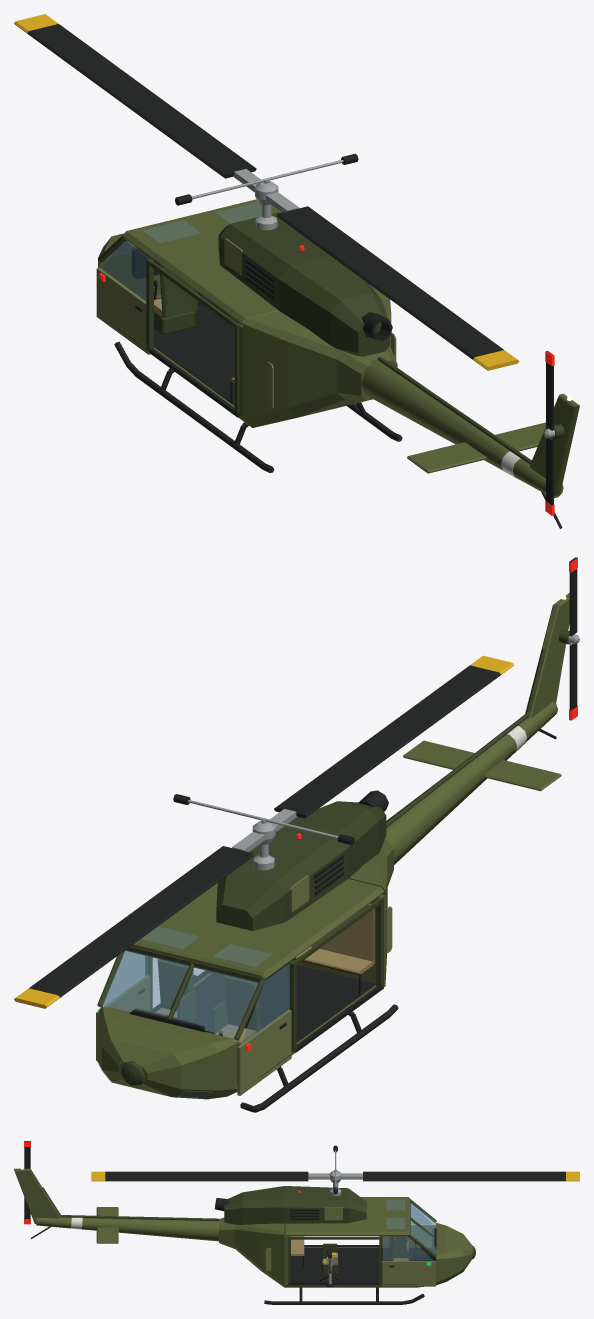
The model's file is utility_helicopter.glb.
3 renders of one model, top to bottom at view 1: azimuth 30°, elevation 25°; view 2: azimuth 150°, elevation 25°; view 3: azimuth 270°, elevation 25°, orthographic. The views are drawn at different scales.
Parts seen in each view (by area): view 1: fuselage, rotor_main, glass_2, rotor_tail; view 2: fuselage, rotor_main, glass_1, glass_0, glass_2, rotor_tail, glass_3; view 3: fuselage, rotor_main, glass_3, glass_0, glass_1, rotor_tail.
Part boxes in pixels (bbox=[...]): fuselage: bbox=[96, 199, 579, 528]; rotor_main: bbox=[14, 14, 519, 370]; glass_2: bbox=[100, 240, 149, 301]; rotor_tail: bbox=[543, 350, 555, 515]; fuselage: bbox=[96, 593, 570, 1112]; rotor_main: bbox=[14, 655, 513, 1008]; glass_1: bbox=[102, 950, 188, 1016]; glass_0: bbox=[173, 967, 258, 1037]; glass_2: bbox=[241, 963, 289, 1044]; rotor_tail: bbox=[568, 557, 579, 720]; glass_3: bbox=[100, 951, 147, 1008]; fuselage: bbox=[14, 1167, 475, 1304]; rotor_main: bbox=[91, 1145, 579, 1194]; glass_3: bbox=[383, 1236, 433, 1260]; glass_0: bbox=[410, 1202, 435, 1235]; glass_1: bbox=[410, 1220, 435, 1254]; rotor_tail: bbox=[24, 1141, 30, 1224].
Bounding box in the file's own units: 3.65 × 4.33 × 15.52.
